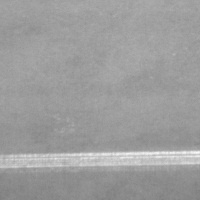scratches: (5, 149, 199, 170)
